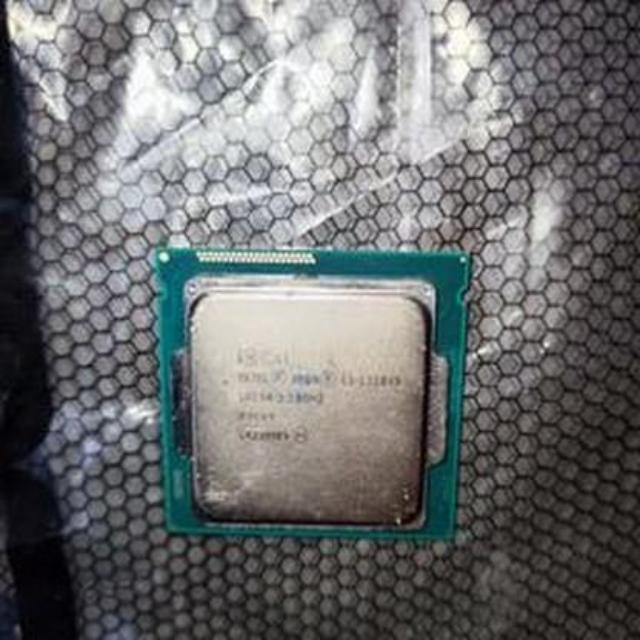CPU: (158, 247, 452, 538)
